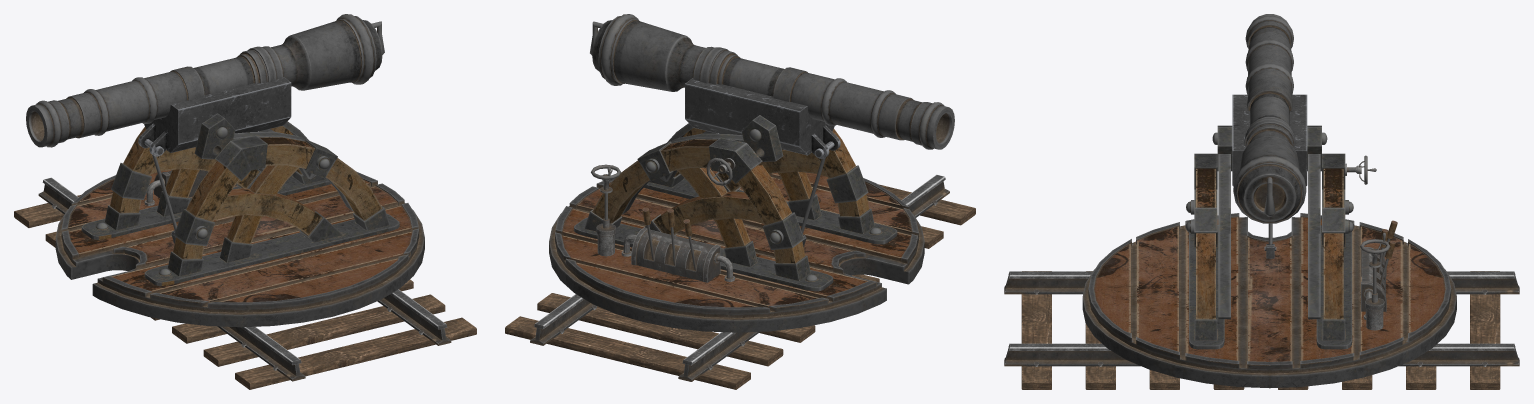
3 renders of one model, left to right at view 1: azimuth 30°, elevation 25°; view 2: azimuth 150°, elevation 25°; view 3: azimuth 270°, elevation 25°, orthographic.
Parts seen in each view (by area): view 1: wood001_04 - Default_0, Cylinder040_02 - Default_0, Cylinder038_01 - Default_0, Cylinder039_04 - Default_0, Cylinder049_02 - Default_0, Box005_03 - Default_0, Box015, Box014, Box016, Plane006_02 - Default_0, Box019, Box013 (+3 smaller); view 2: wood001_04 - Default_0, Cylinder038_01 - Default_0, Cylinder049_02 - Default_0, Cylinder039_04 - Default_0, Cylinder040_02 - Default_0, Box005_03 - Default_0, Cylinder046, Box007, Box009, Plane007_02 - Default_0, Box008, Box018 (+5 smaller); view 3: wood001_04 - Default_0, Cylinder039_04 - Default_0, Cylinder038_01 - Default_0, Cylinder049_02 - Default_0, Cylinder040_02 - Default_0, Plane006_02 - Default_0, Box019, Plane007_02 - Default_0, Box015, Box005_03 - Default_0, Box007, Box018 (+7 smaller).
Boxes of the visible parts, bbox=[...] form: wood001_04 - Default_0: bbox=[61, 170, 419, 308]; Cylinder040_02 - Default_0: bbox=[144, 135, 399, 285]; Cylinder038_01 - Default_0: bbox=[26, 14, 384, 147]; Cylinder039_04 - Default_0: bbox=[55, 185, 424, 327]; Cylinder049_02 - Default_0: bbox=[81, 126, 330, 239]; Box005_03 - Default_0: bbox=[138, 77, 291, 156]; Box015: bbox=[235, 317, 476, 389]; Box014: bbox=[203, 294, 445, 366]; Box016: bbox=[217, 326, 305, 381]; Plane006_02 - Default_0: bbox=[194, 113, 352, 210]; Box019: bbox=[377, 289, 451, 345]; Box013: bbox=[172, 279, 413, 343]; wood001_04 - Default_0: bbox=[555, 168, 918, 313]; Cylinder038_01 - Default_0: bbox=[590, 14, 954, 149]; Cylinder049_02 - Default_0: bbox=[574, 137, 833, 291]; Cylinder039_04 - Default_0: bbox=[549, 188, 924, 332]; Cylinder040_02 - Default_0: bbox=[644, 128, 897, 244]; Box005_03 - Default_0: bbox=[685, 78, 840, 158]; Cylinder046: bbox=[596, 193, 734, 282]; Box007: bbox=[505, 316, 750, 389]; Box009: bbox=[537, 293, 783, 366]; Plane007_02 - Default_0: bbox=[622, 115, 783, 214]; Box008: bbox=[678, 331, 760, 381]; Box018: bbox=[530, 294, 597, 345]; wood001_04 - Default_0: bbox=[1088, 213, 1451, 369]; Cylinder039_04 - Default_0: bbox=[1082, 217, 1456, 388]; Cylinder038_01 - Default_0: bbox=[1233, 14, 1306, 223]; Cylinder049_02 - Default_0: bbox=[1316, 153, 1353, 349]; Cylinder040_02 - Default_0: bbox=[1186, 153, 1224, 349]; Plane006_02 - Default_0: bbox=[1212, 125, 1232, 319]; Box019: bbox=[1004, 343, 1140, 366]; Plane007_02 - Default_0: bbox=[1307, 125, 1327, 319]; Box015: bbox=[1021, 271, 1051, 389]; Box005_03 - Default_0: bbox=[1232, 94, 1307, 186]; Box007: bbox=[1470, 271, 1500, 389]; Box018: bbox=[1399, 343, 1519, 366].
Size of the model in its own units: 2.24 by 1.35 by 2.72.
Materials: 6 (6 with a texture image).
